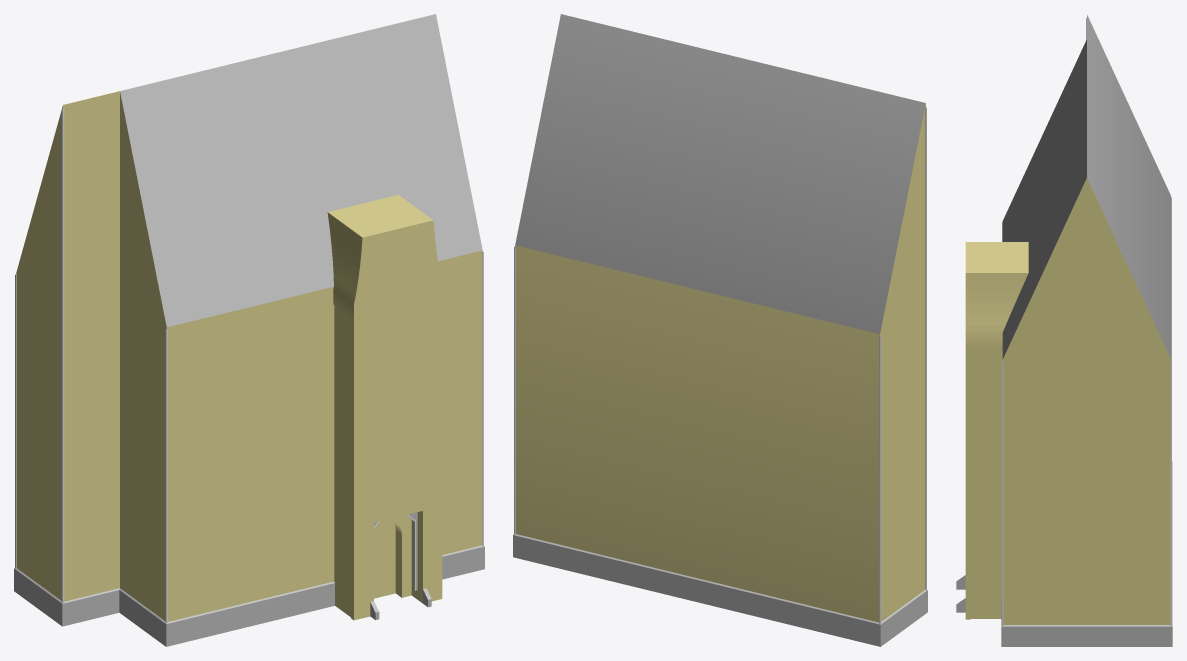
Rendered from SP_House09_Base.fbx.
The picture shows the model from 3 angles, left to right: view 1: azimuth 30°, elevation 25°; view 2: azimuth 150°, elevation 25°; view 3: azimuth 270°, elevation 25°; orthographic projection. The views are drawn at different scales.
Visible parts, largest first — view 1: SP_House09_Base; view 2: SP_House09_Base; view 3: SP_House09_Base.
Part boxes in pixels (x1,y1,x2,y2): SP_House09_Base: [14, 14, 484, 646]; SP_House09_Base: [513, 14, 927, 646]; SP_House09_Base: [956, 15, 1172, 646].
Size of the model in its own units: 19.39 by 25.69 by 10.74.
